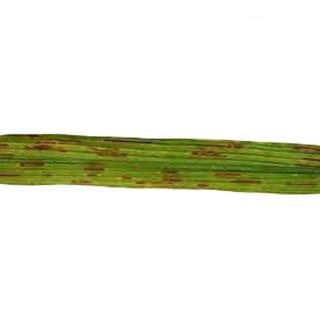bercak-Cokelat: (24, 138, 78, 157), (86, 144, 131, 162), (186, 145, 235, 159), (160, 164, 188, 186), (82, 163, 116, 180), (121, 174, 153, 188)
